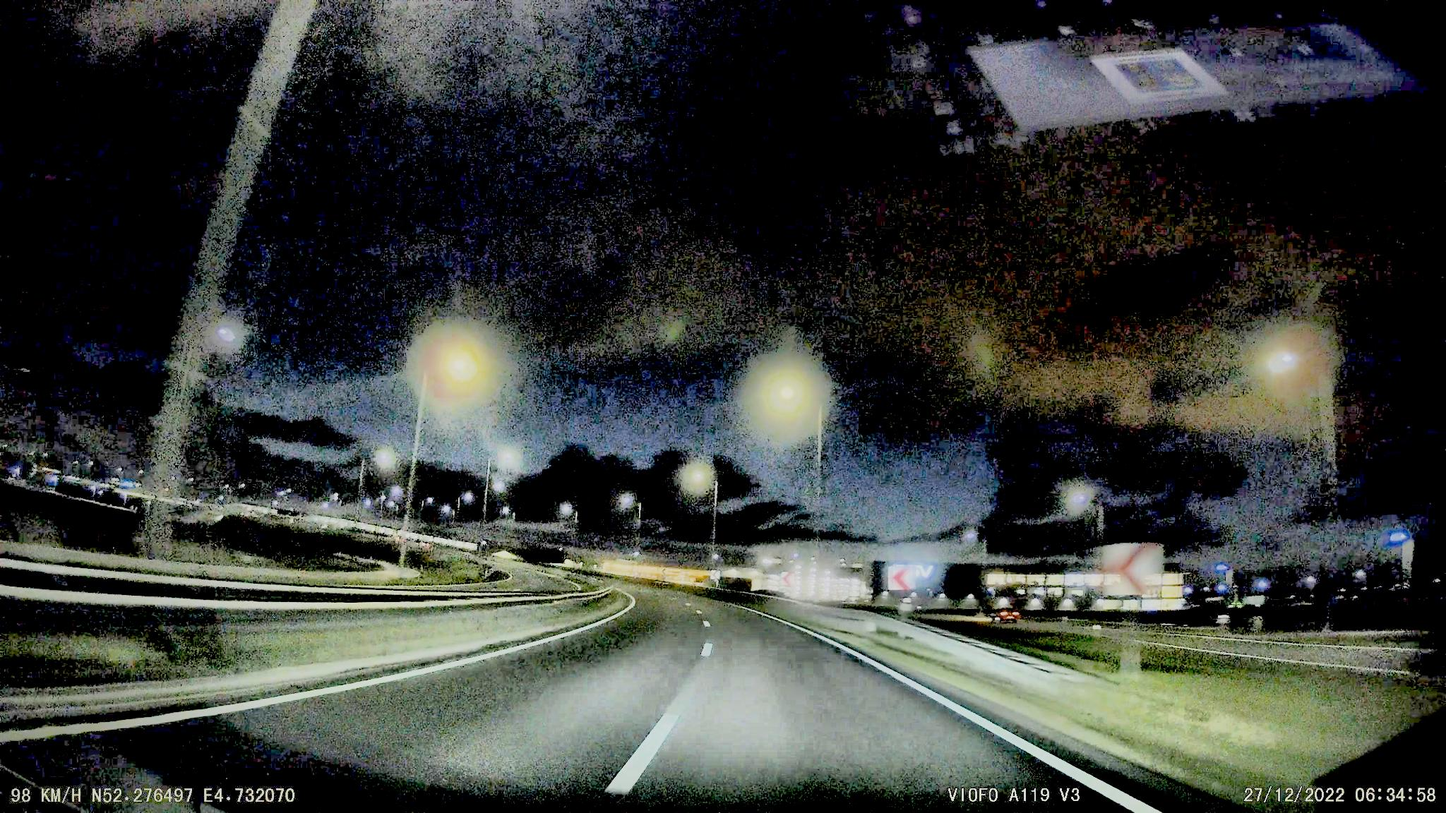Roads: (0, 588, 1135, 813)
